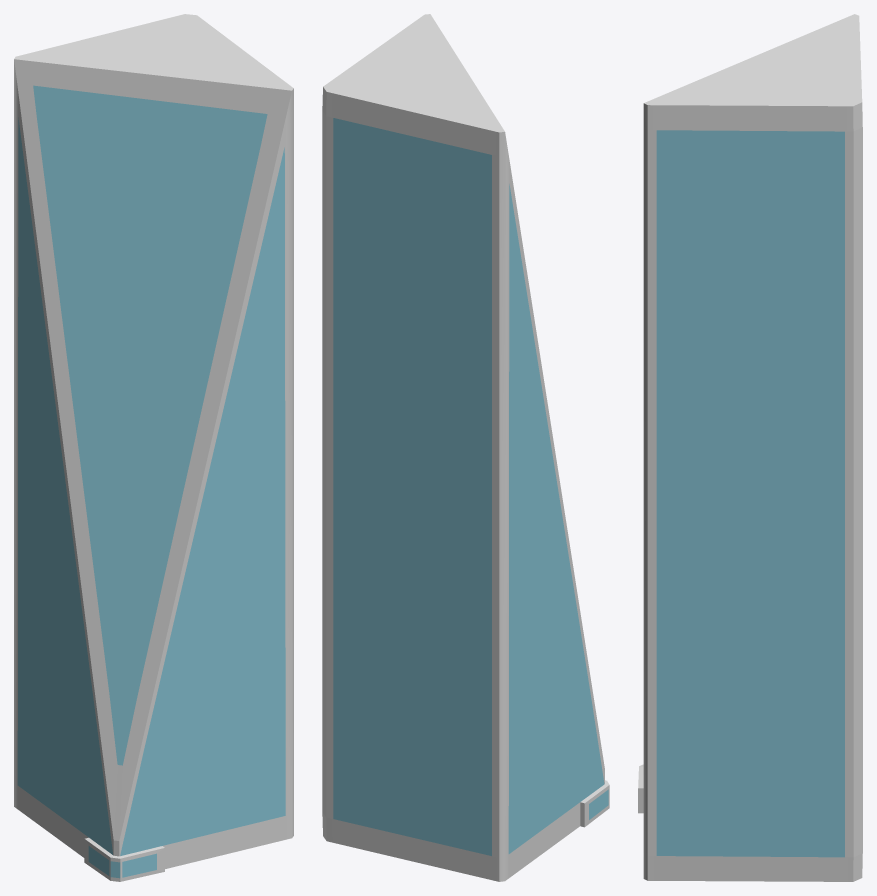
File: SkyScraper 1.fbx
The picture shows the model from 3 angles, left to right: view 1: azimuth 30°, elevation 25°; view 2: azimuth 150°, elevation 25°; view 3: azimuth 270°, elevation 25°; orthographic projection. The views are drawn at different scales.
Visible parts, largest first — view 1: pCube40; view 2: pCube40; view 3: pCube40.
Boxes of the visible parts, x1=… form: pCube40: x1=14, y1=14, x2=293, y2=881; pCube40: x1=322, y1=14, x2=609, y2=881; pCube40: x1=638, y1=14, x2=862, y2=881.
Size of the model in its own units: 16.66 by 63.49 by 16.67.
